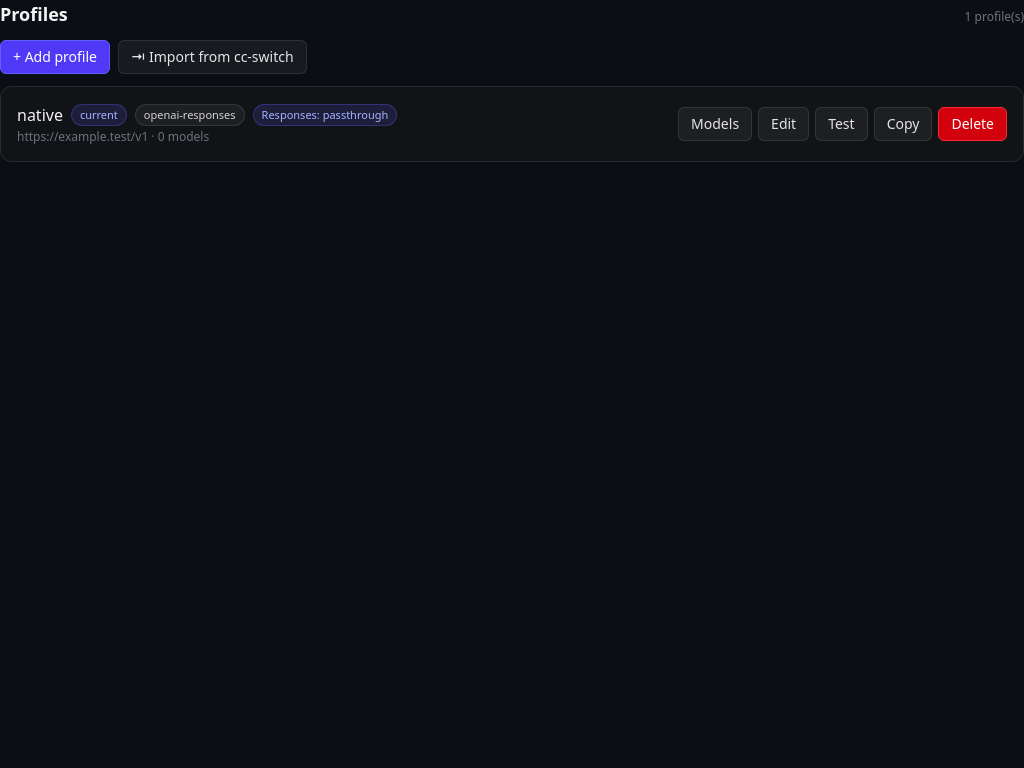
Scenario: provider Responses mode form › shows and preserves the existing Responses mode
Click the button "Edit": {"x": 784, "y": 124} top-left (758, 107), bottom-right (809, 141)
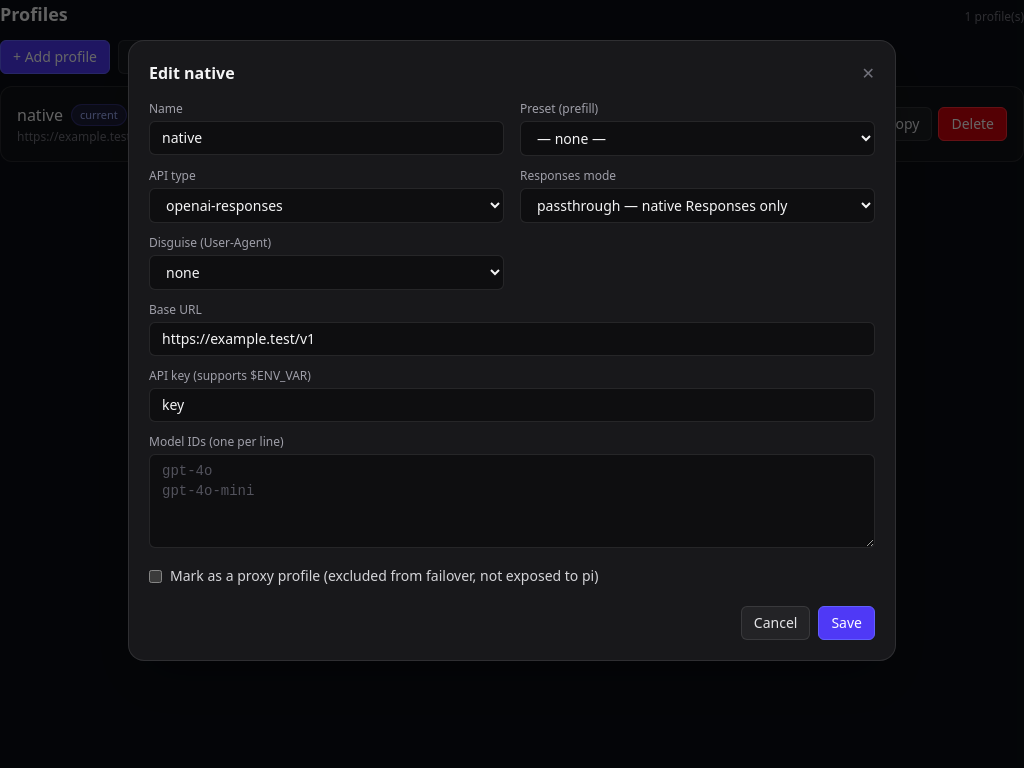
Result: the number of dropdowns is 4 at top-left (520, 121), bottom-right (875, 156); top-left (149, 188), bottom-right (504, 223); top-left (520, 188), bottom-right (875, 223); top-left (149, 255), bottom-right (504, 290)
Result: the dropdown below "Responses mode" shows "passthrough — native Responses only" at top-left (520, 188), bottom-right (875, 223)
Result: the text "Responses mode" is shown at top-left (520, 167), bottom-right (616, 184)
